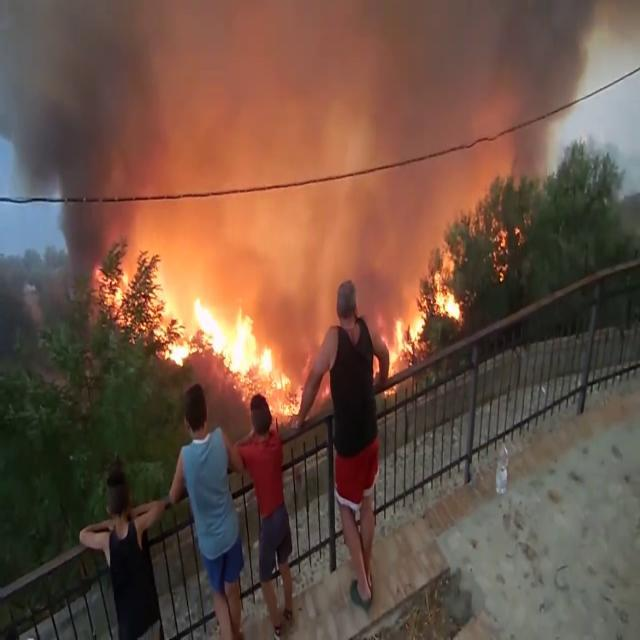Fire: (98, 247, 296, 398), (387, 258, 465, 376)
Smoke: (2, 1, 582, 283)
